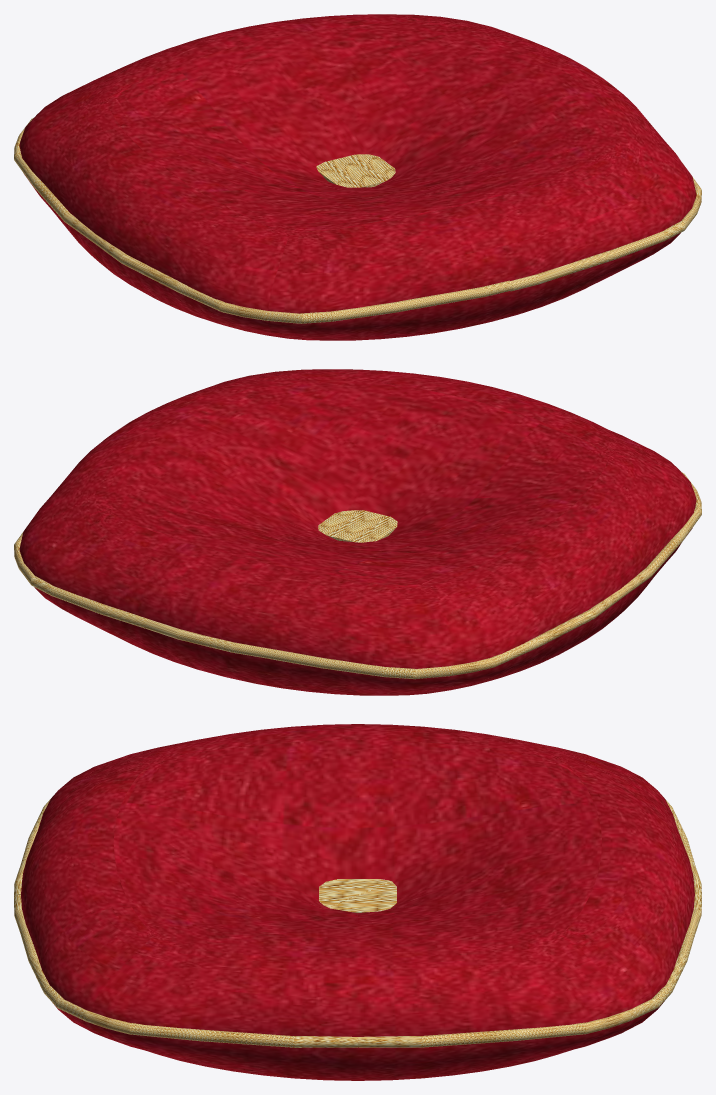
Rendered from cushion.glb.
3 renders of one model, top to bottom at view 1: azimuth 30°, elevation 25°; view 2: azimuth 150°, elevation 25°; view 3: azimuth 270°, elevation 25°, orthographic. The views are drawn at different scales.
Parts seen in each view (by area): view 1: Cube, Cylinder.003, Cylinder.001, Cube.001, Cylinder.002; view 2: Cube, Cylinder.002, Cylinder, Cube.001, Cylinder.003; view 3: Cube, Cylinder, Cylinder.001, Cube.001.
Part boxes in pixels (x1,y1,x2,y2): Cube: (19,14,696,340); Cylinder.003: (92,234,512,323); Cylinder.001: (510,177,701,291); Cube.001: (316,154,395,187); Cylinder.002: (14,118,95,241); Cube: (19,369,696,695); Cylinder.002: (203,589,623,679); Cylinder: (14,532,205,645); Cube.001: (318,510,397,542); Cylinder.003: (620,472,701,596); Cube: (21,724,694,1080); Cylinder: (358,894,701,1047); Cylinder.001: (14,895,357,1047); Cube.001: (319,879,396,913).
Size of the model in its own units: 9.35 by 2.36 by 9.4.
Materials: 2 (2 with a texture image).
